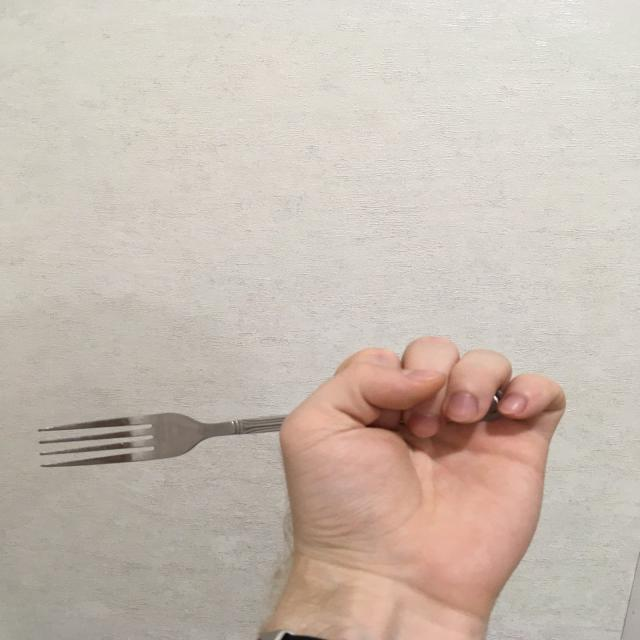fork: (36, 388, 516, 470)
